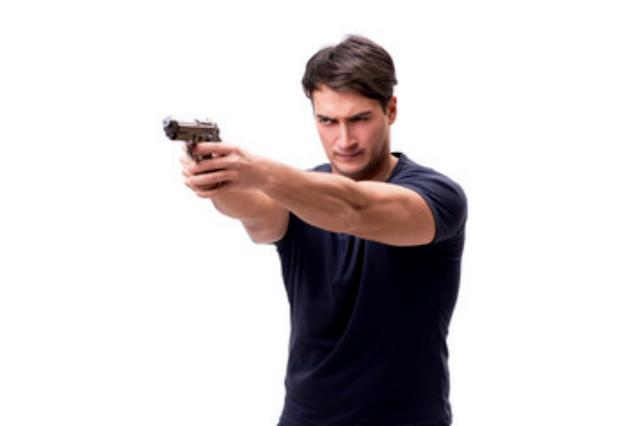pistol: (148, 113, 238, 197)
